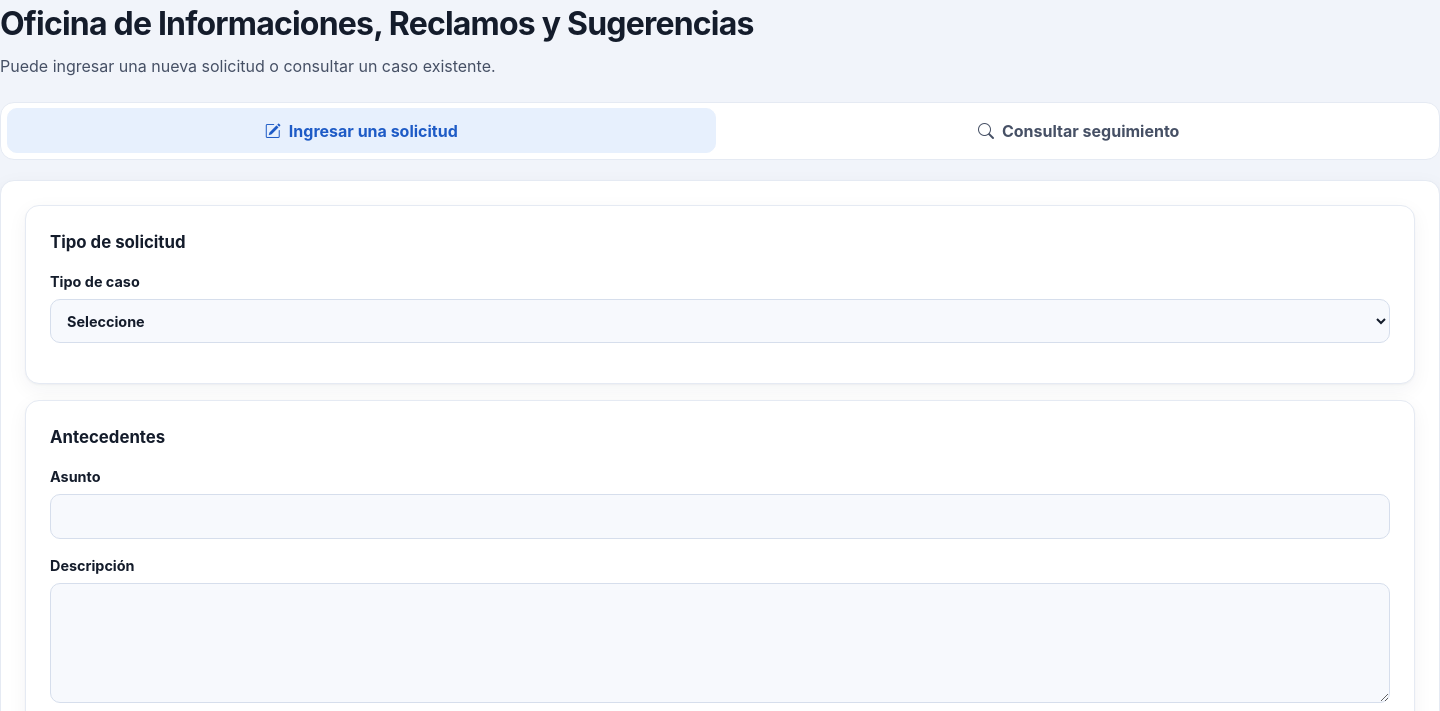
OirsPage - public › consulta un caso, traduce el estado y muestra historial vacío
Click the tab "Consultar seguimiento": (1079, 131) [724,108,1433,153]
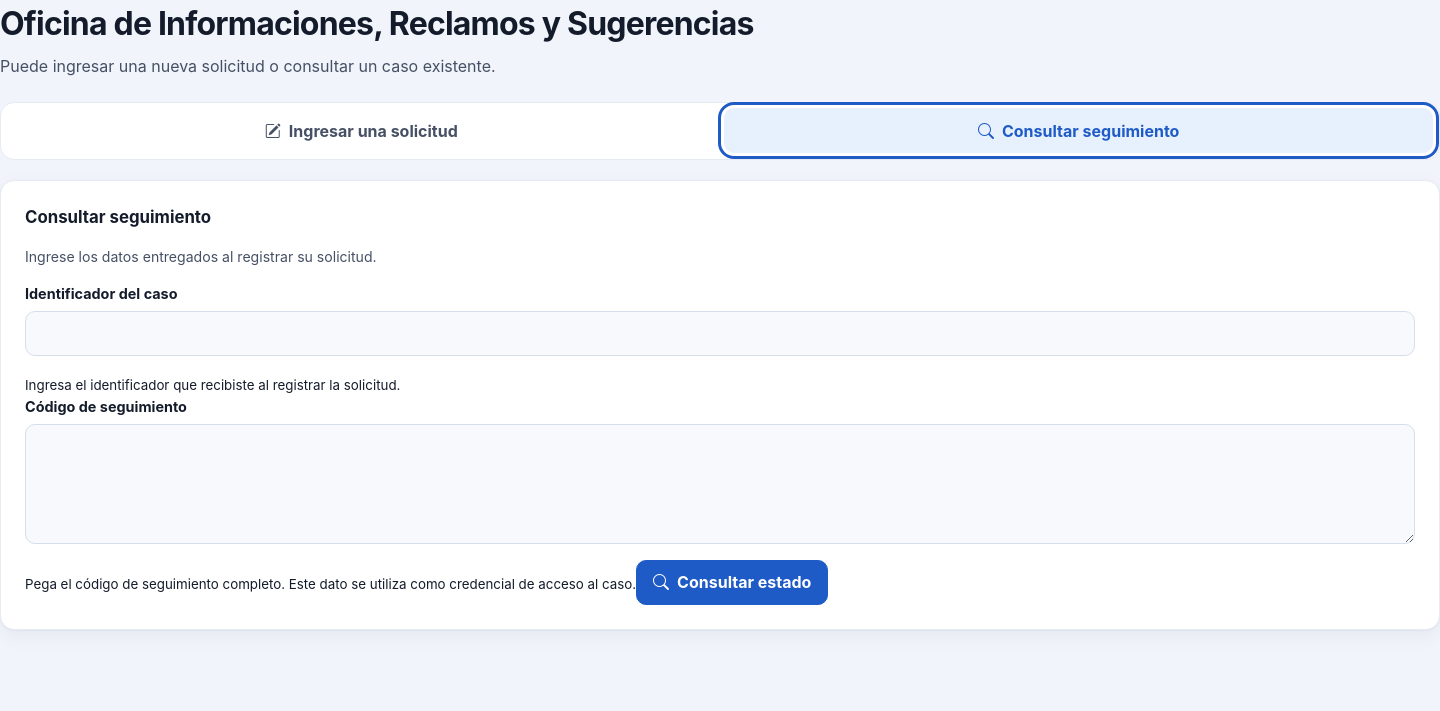
In the field labelled "Identificador del caso": (720, 334) [25,311,1415,356], type "a0000000-0000-4000-8000-000000000001"
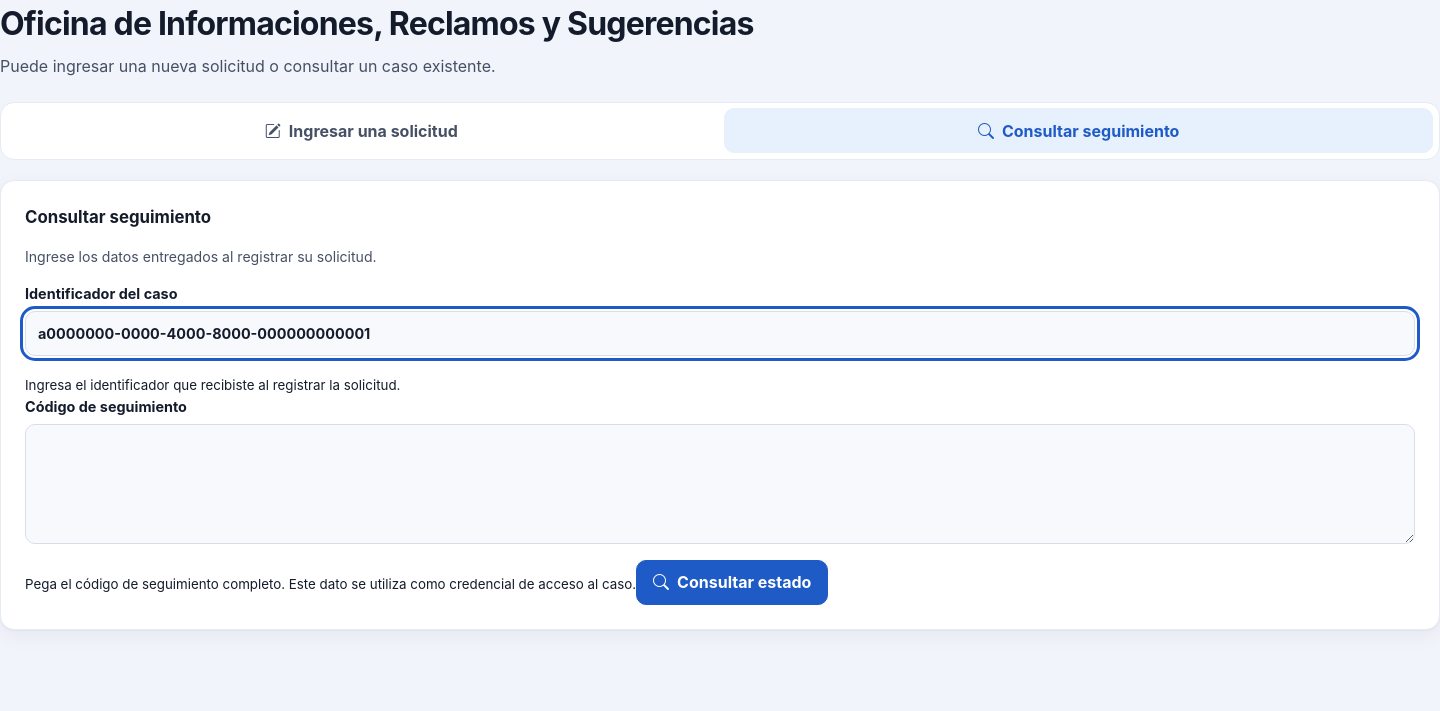
In the text box labelled "Código de seguimiento": (720, 484) [25,424,1415,544], type "tracking-token"
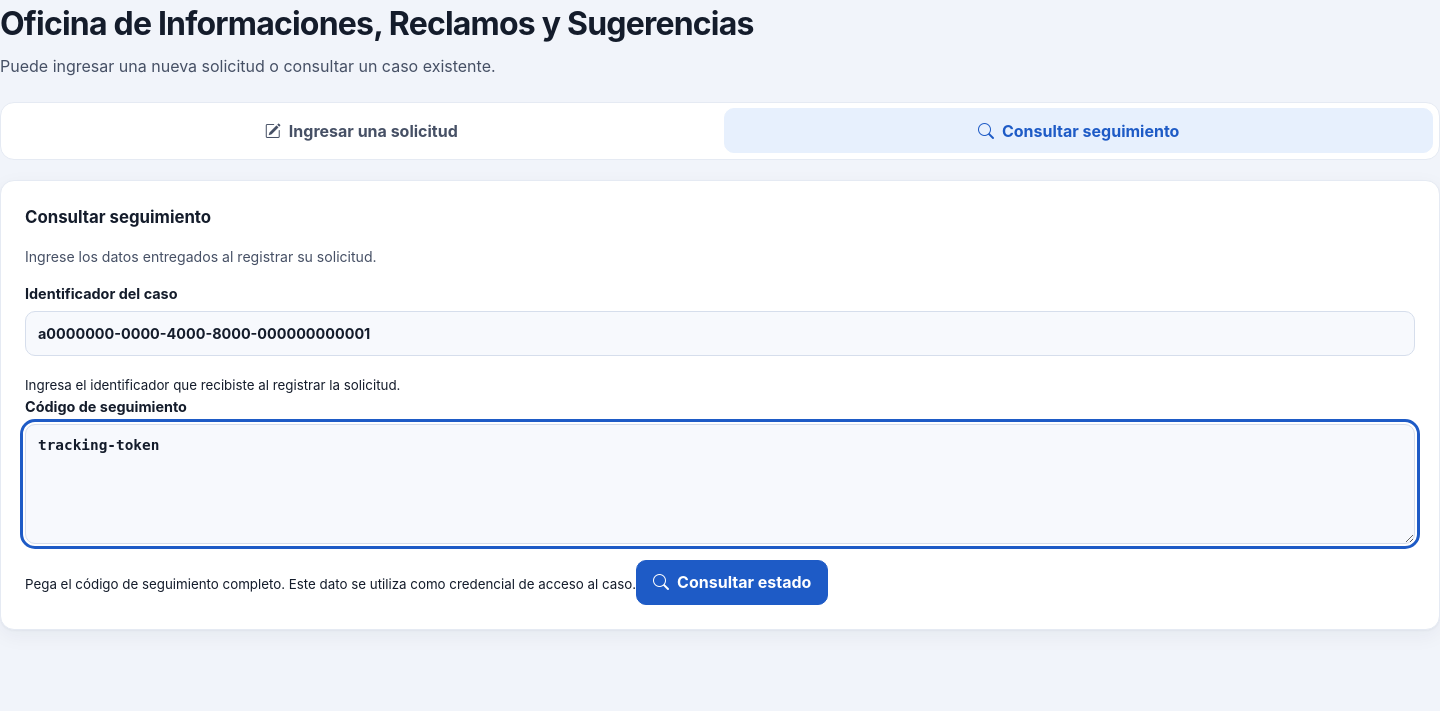
Click the button "Consultar estado": (732, 582) [636,560,828,605]
(page scrolled)
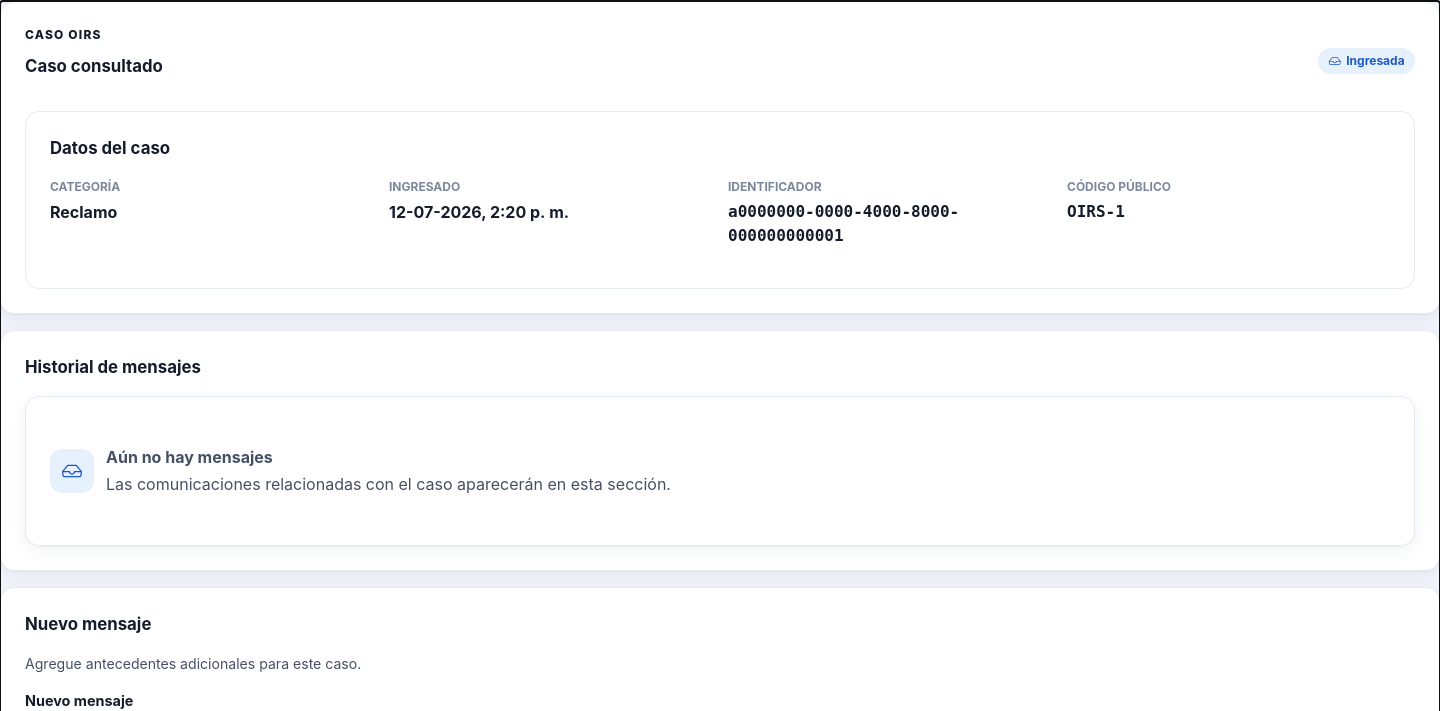
Expected: the element with test id "oirs-status" reads "Ingresada", [1346,53,1405,68]
Expected: the text "Categoría" is shown, [50,179,120,194]
Expected: the heading "Aún no hay mensajes" is shown, [106,447,273,467]
